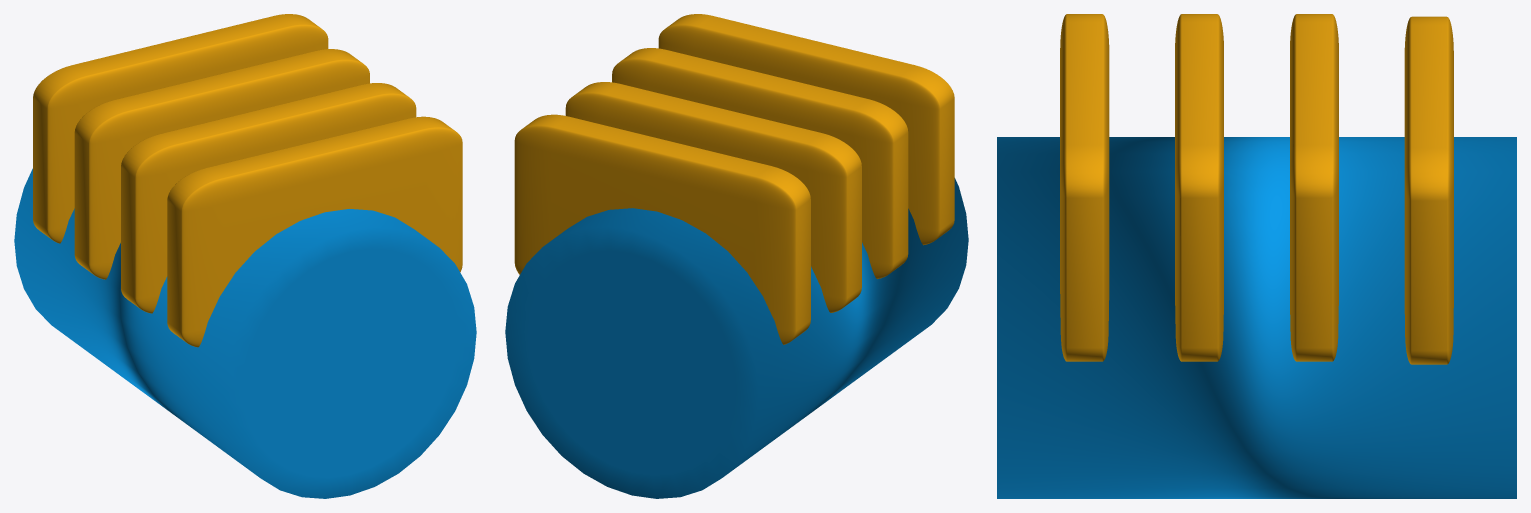
File: sql-3d-hold.glb
The picture shows the model from 3 angles, left to right: view 1: azimuth 30°, elevation 25°; view 2: azimuth 150°, elevation 25°; view 3: azimuth 270°, elevation 25°; orthographic projection. The views are drawn at different scales.
Parts seen in each view (by area): view 1: Cube.003; view 2: Cube.003; view 3: Cube.003.
Part boxes in pixels (bbox=[...]): Cube.003: bbox=[14, 14, 476, 498]; Cube.003: bbox=[505, 14, 968, 498]; Cube.003: bbox=[997, 14, 1516, 498].
Bounding box in the file's own units: 7.8 × 8.37 × 9.9.
